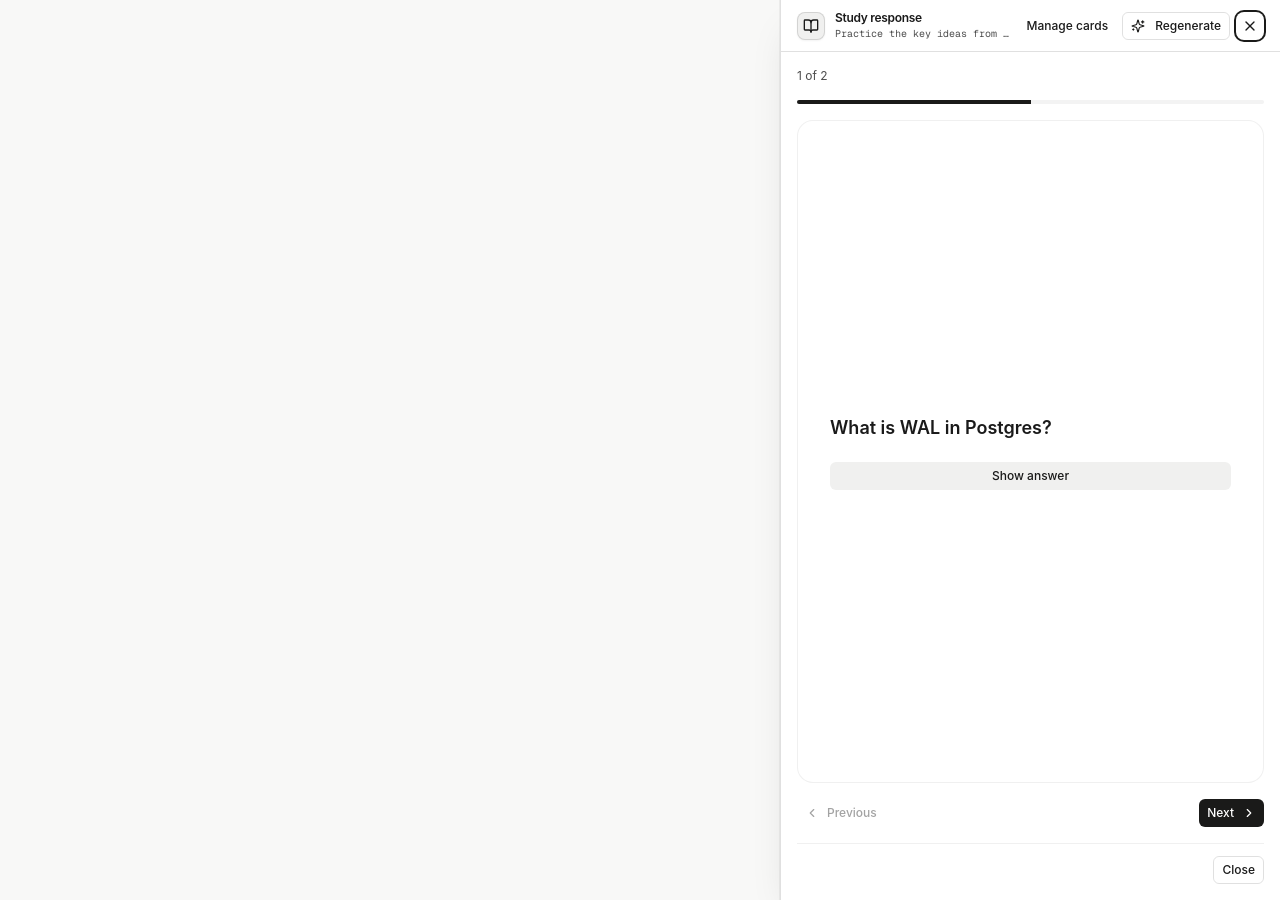
Scenario: FlashcardModal › regenerates cards via confirmation dialog
The width and height of the screenshot is (1280, 900).
Expected: the text "What is WAL in Postgres?" is shown, [830,417,1052,438]
Click the button with aria-label "regenerate flashcards" at point(1176, 26), box [1122,12,1230,40]
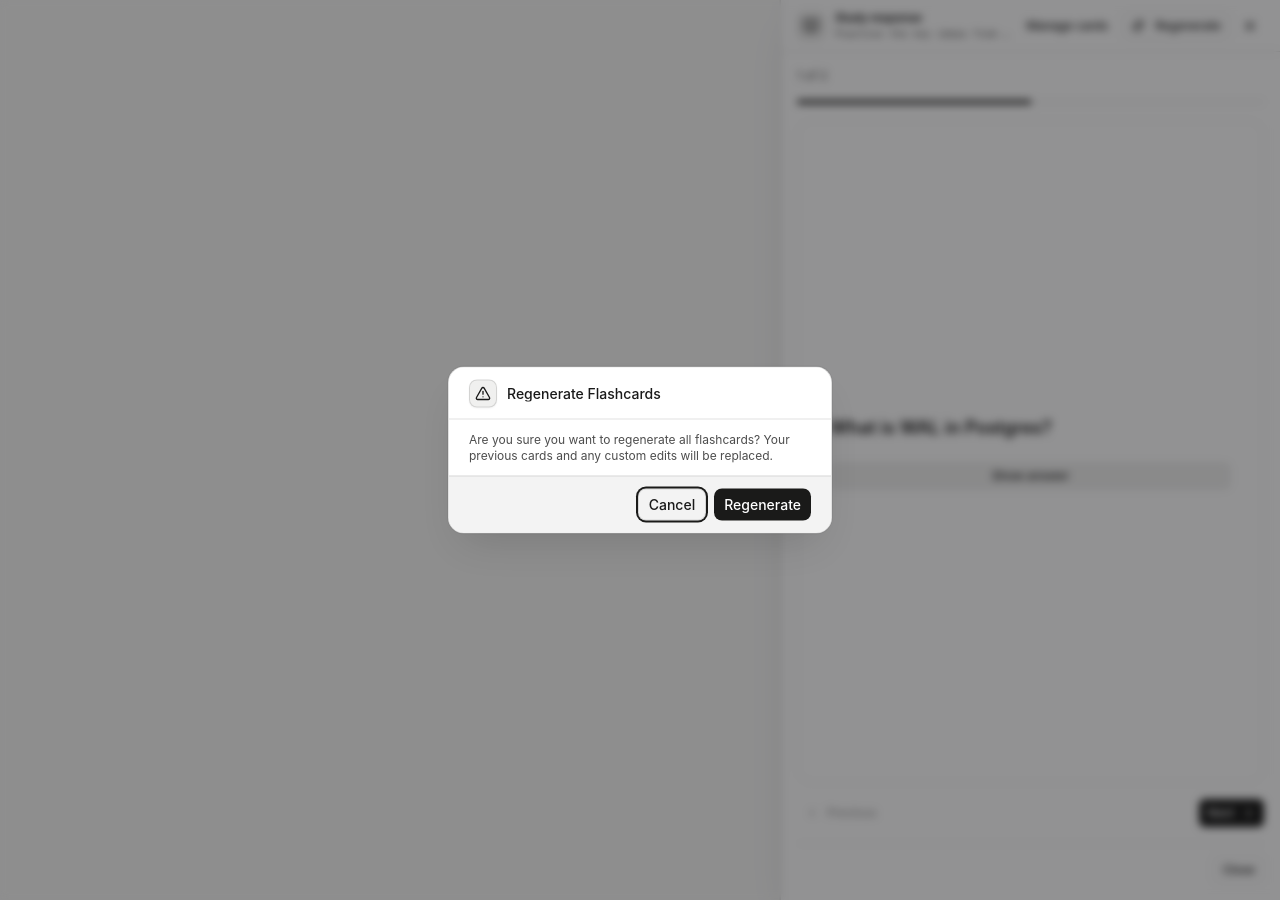
Expected: the text "Are you sure you want to regenerate all flashcards?" is shown, [469,432,790,462]
Click the button "Regenerate" at point(763, 504), box [714,488,811,520]
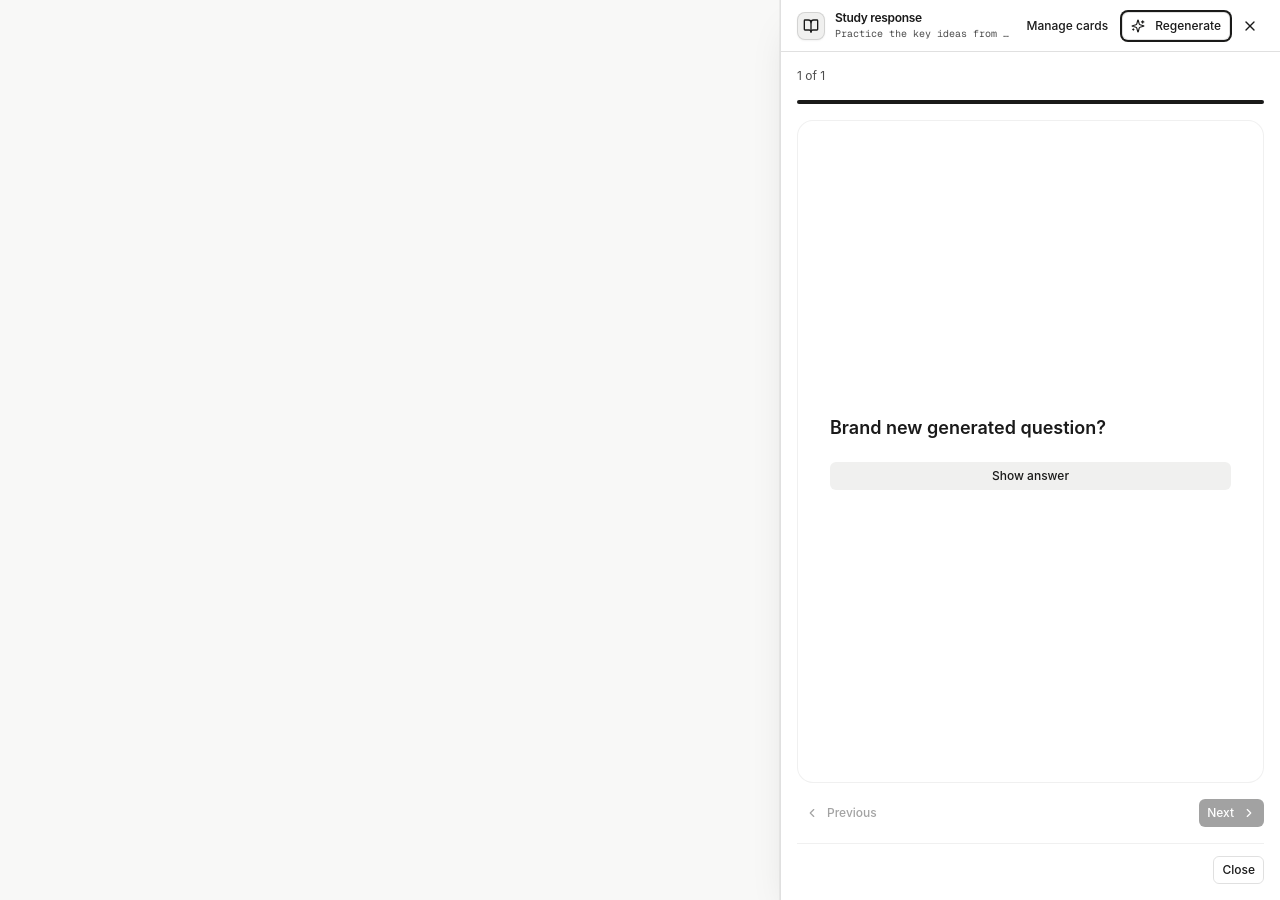
Expected: the text "Brand new generated question?" is shown, [830,417,1106,438]
Expected: the text "What is WAL in Postgres?" is gone
